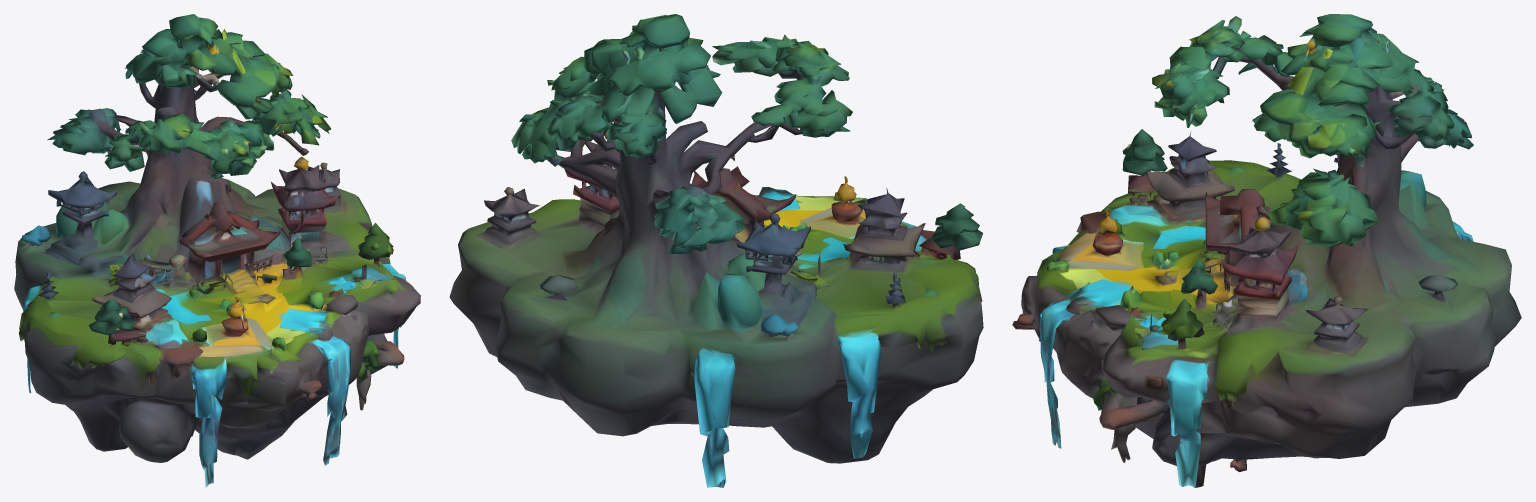
File: env_sky_floatingtemples.fbx
The picture shows the model from 3 angles, left to right: view 1: azimuth 30°, elevation 25°; view 2: azimuth 150°, elevation 25°; view 3: azimuth 270°, elevation 25°; orthographic projection. The views are drawn at different scales.
Visible parts, largest first — view 1: env_sky_floatingtemples_LOD0; view 2: env_sky_floatingtemples_LOD0; view 3: env_sky_floatingtemples_LOD0.
Part boxes in pixels (x1,y1,x2,y2): env_sky_floatingtemples_LOD0: [14, 14, 420, 487]; env_sky_floatingtemples_LOD0: [449, 14, 983, 487]; env_sky_floatingtemples_LOD0: [1012, 14, 1521, 487].
Size of what is drawn, in the model's own units: 0.9804 by 0.9361 by 0.9624.
